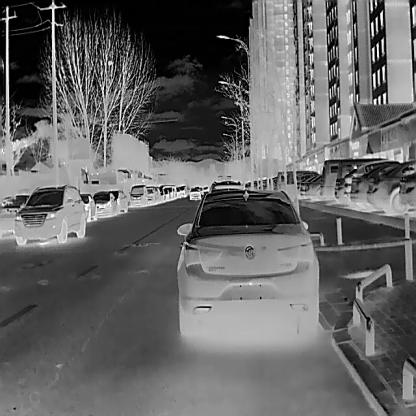car: (176, 189, 318, 337), (14, 184, 85, 244), (366, 160, 415, 212), (0, 194, 29, 236), (319, 158, 339, 196), (102, 188, 127, 213), (92, 193, 117, 216), (79, 192, 97, 221), (128, 184, 147, 206), (304, 176, 322, 194), (146, 185, 157, 203), (189, 186, 203, 199)
